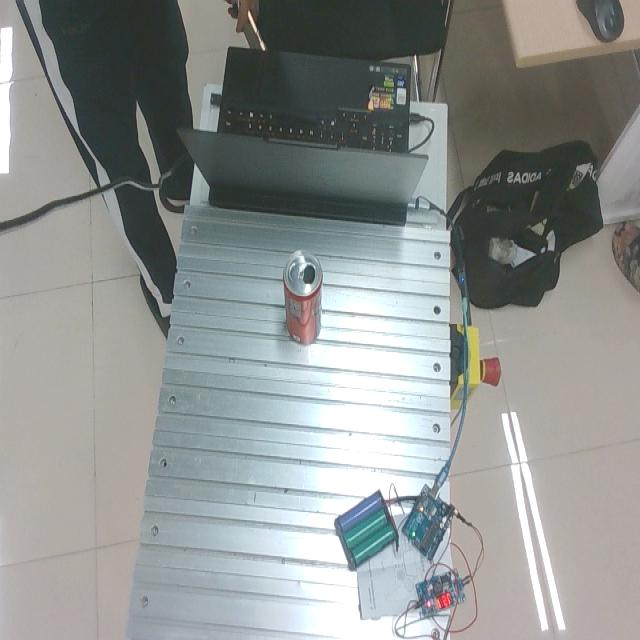coca: (283, 250, 324, 346)
